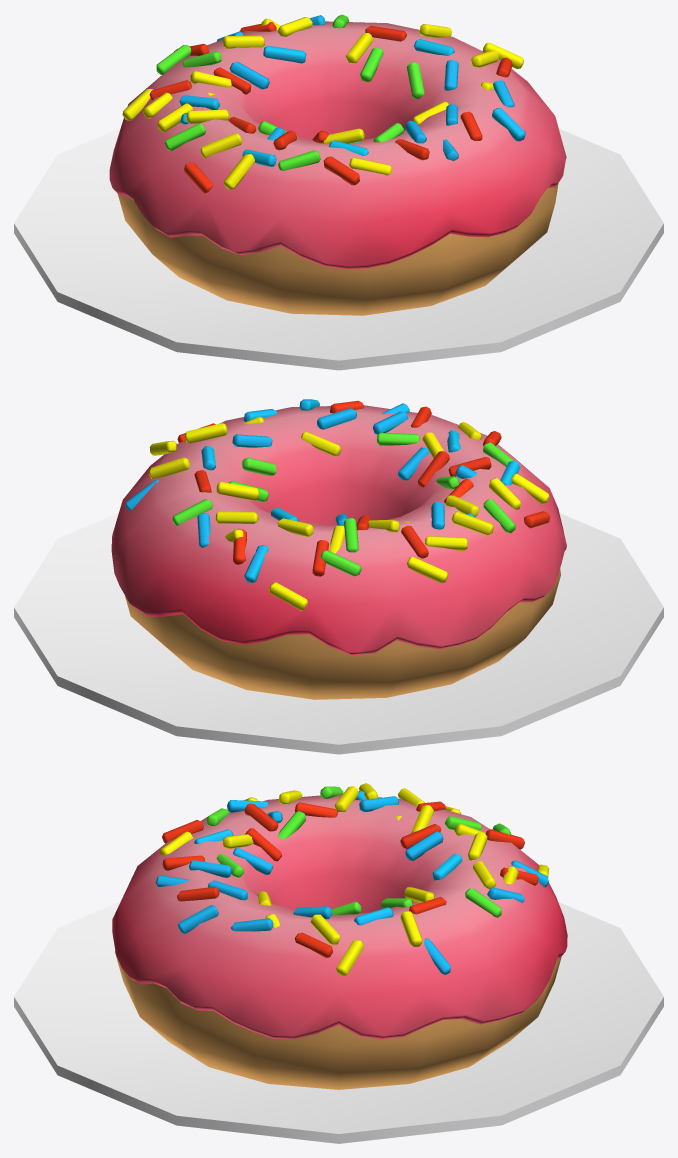
The model's file is Donut.fbx.
The picture shows the model from 3 angles, top to bottom: view 1: azimuth 30°, elevation 25°; view 2: azimuth 150°, elevation 25°; view 3: azimuth 270°, elevation 25°; orthographic projection.
Visible parts, largest first — view 1: Map02_Donut_LV5; view 2: Map02_Donut_LV5; view 3: Map02_Donut_LV5.
Boxes of the visible parts, x1,y1,x2,y2 form: Map02_Donut_LV5: (14,14,663,370); Map02_Donut_LV5: (14,399,663,754); Map02_Donut_LV5: (14,783,663,1143).
Bounding box in the file's own units: 105 × 35.73 × 105.
